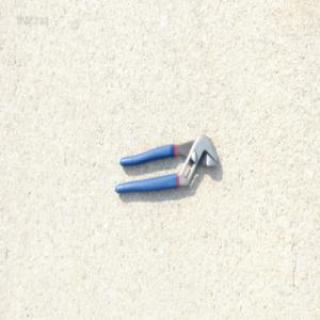Pliertrack_idkeyframe: (113, 134, 218, 195)
